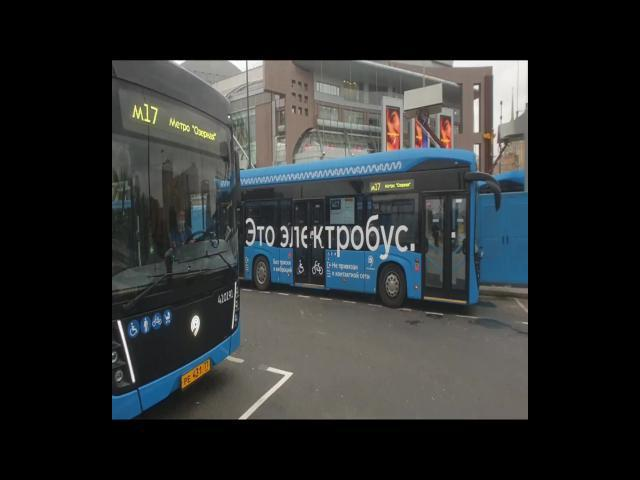bus: (112, 61, 242, 419), (228, 144, 504, 310)
